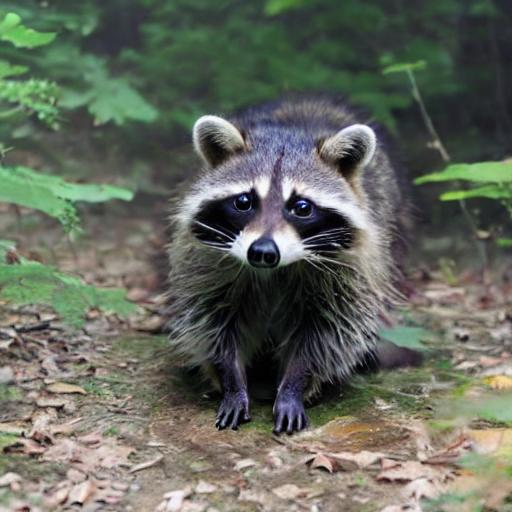raccoon: (153, 86, 416, 442)
